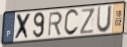9: (32, 11, 46, 41)
C: (63, 8, 80, 38)
R: (47, 11, 63, 38)
U: (95, 5, 114, 35)
X: (13, 12, 32, 42)
Z: (80, 7, 96, 35)
